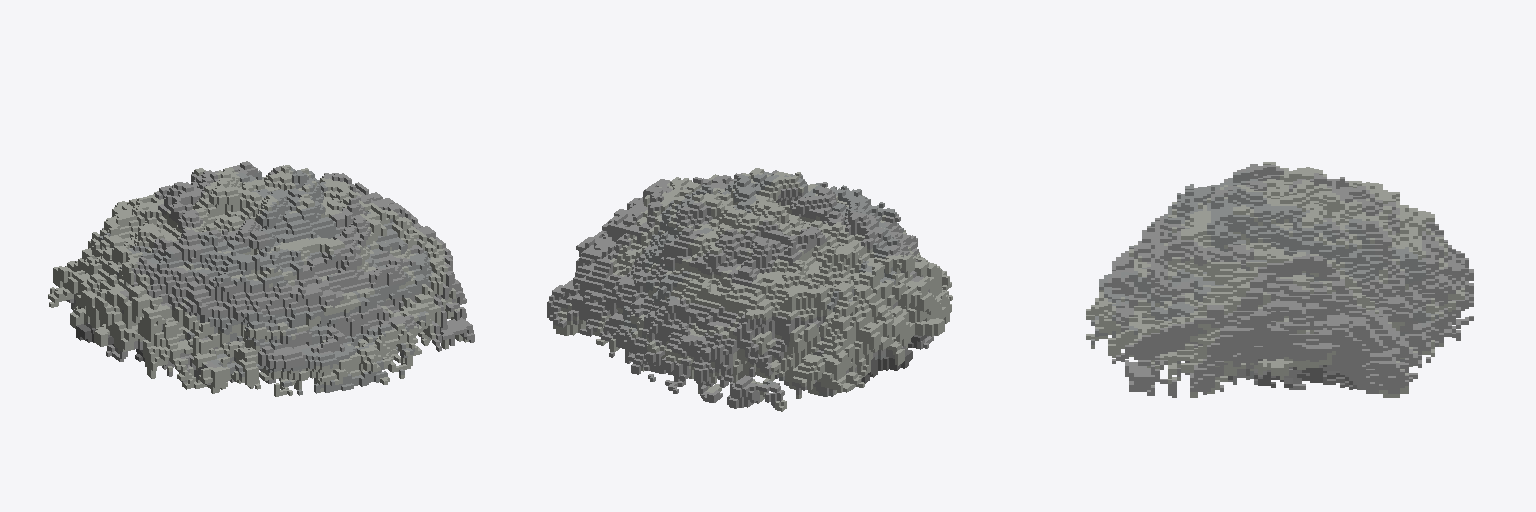
3 renders of one model, left to right at view 1: azimuth 30°, elevation 25°; view 2: azimuth 150°, elevation 25°; view 3: azimuth 270°, elevation 25°, orthographic.
Visible parts, largest first — view 1: object 1; view 2: object 1; view 3: object 1.
Part boxes in pixels (left/top/right/bottom): object 1: left=48, top=161, right=474, bottom=396; object 1: left=547, top=168, right=952, bottom=411; object 1: left=1086, top=162, right=1473, bottom=397.
Bounding box in the file's own units: 8.9 × 3.4 × 9.
Materials: 1 (1 with a texture image).